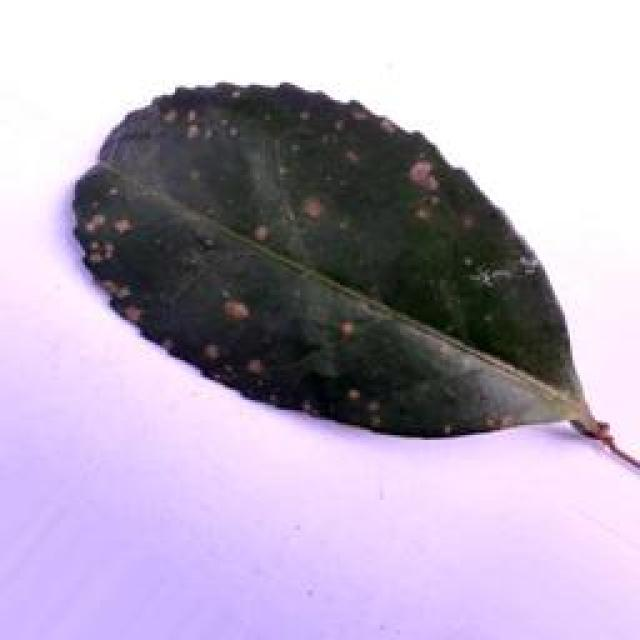Algal Leaf Spot: (60, 76, 640, 476)
